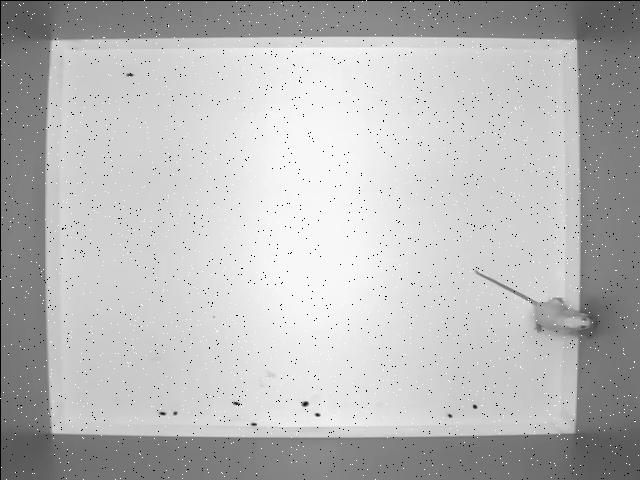Tikus: (470, 265, 600, 340)
